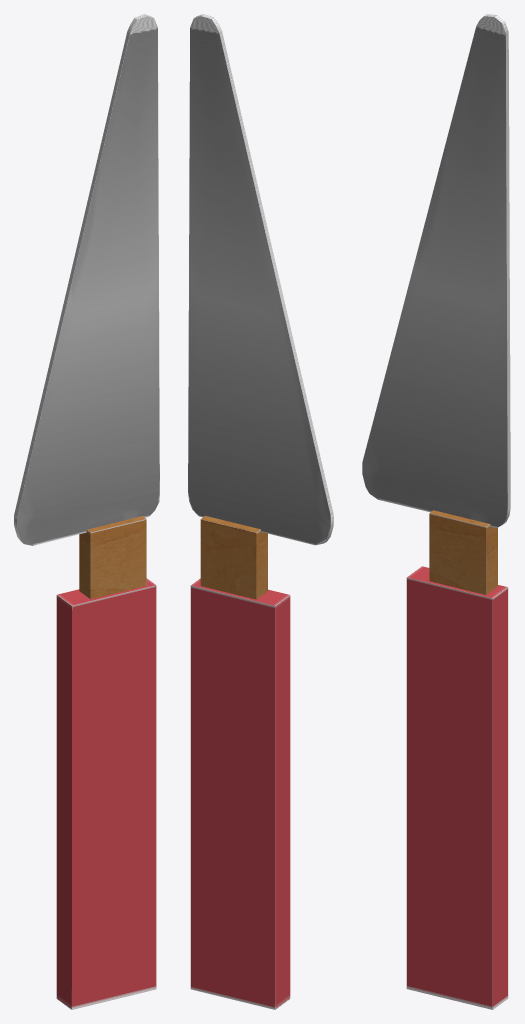
File: knife.fbx
3 views of the same model, side by side, from view 1: azimuth 30°, elevation 25°; view 2: azimuth 150°, elevation 25°; view 3: azimuth 330°, elevation 25° (orthographic).
Parts seen in each view (by area): view 1: polySurface3; view 2: polySurface3; view 3: polySurface3.
Part boxes in pixels (<box>): polySurface3: <box>14,14,159,1009</box>; polySurface3: <box>188,14,333,1009</box>; polySurface3: <box>362,14,510,1009</box>.
Size of the model in its own units: 15.74 by 102 by 2.89.
